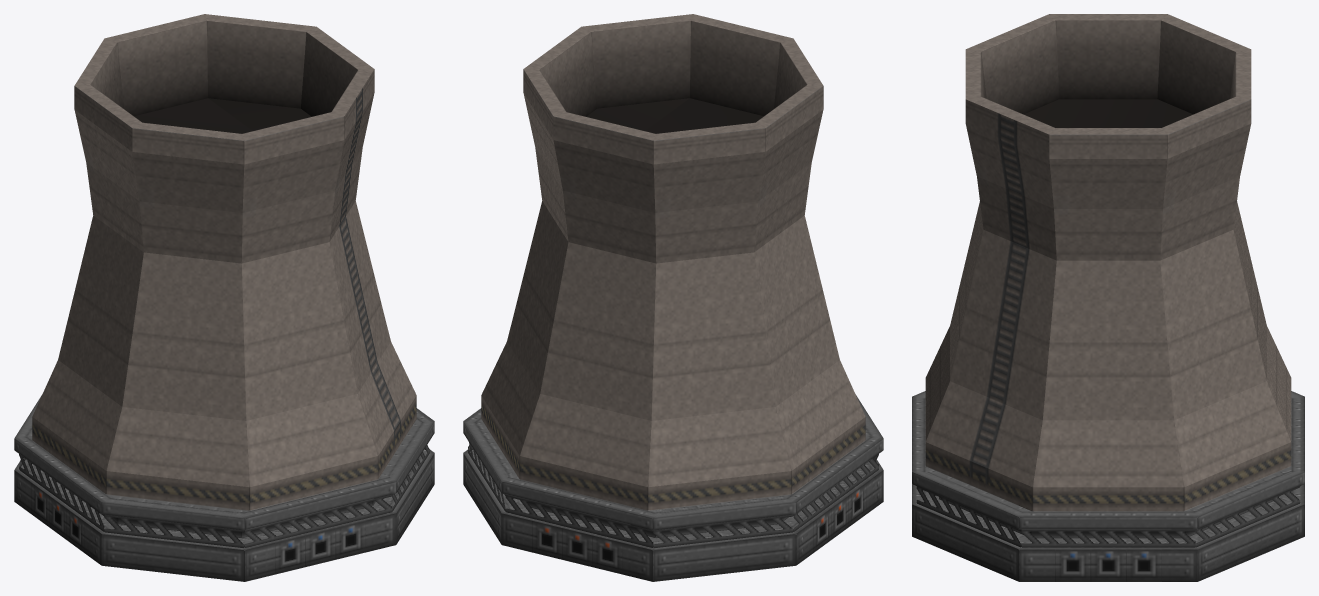
The model's file is cooling_tower_mirrored.obj.
The picture shows the model from 3 angles, left to right: view 1: azimuth 30°, elevation 25°; view 2: azimuth 150°, elevation 25°; view 3: azimuth 270°, elevation 25°; orthographic projection. The views are drawn at different scales.
Visible parts, largest first — view 1: cube; view 2: cube; view 3: cube.
Part boxes in pixels (box(x1,y1,x2,y2)): cube: box(14, 14, 434, 581); cube: box(463, 14, 883, 581); cube: box(912, 14, 1304, 581).
Size of the model in its own units: 11 by 13.12 by 11.
